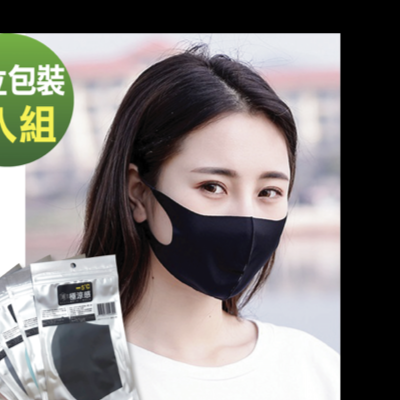with_mask: (143, 155, 289, 299)
